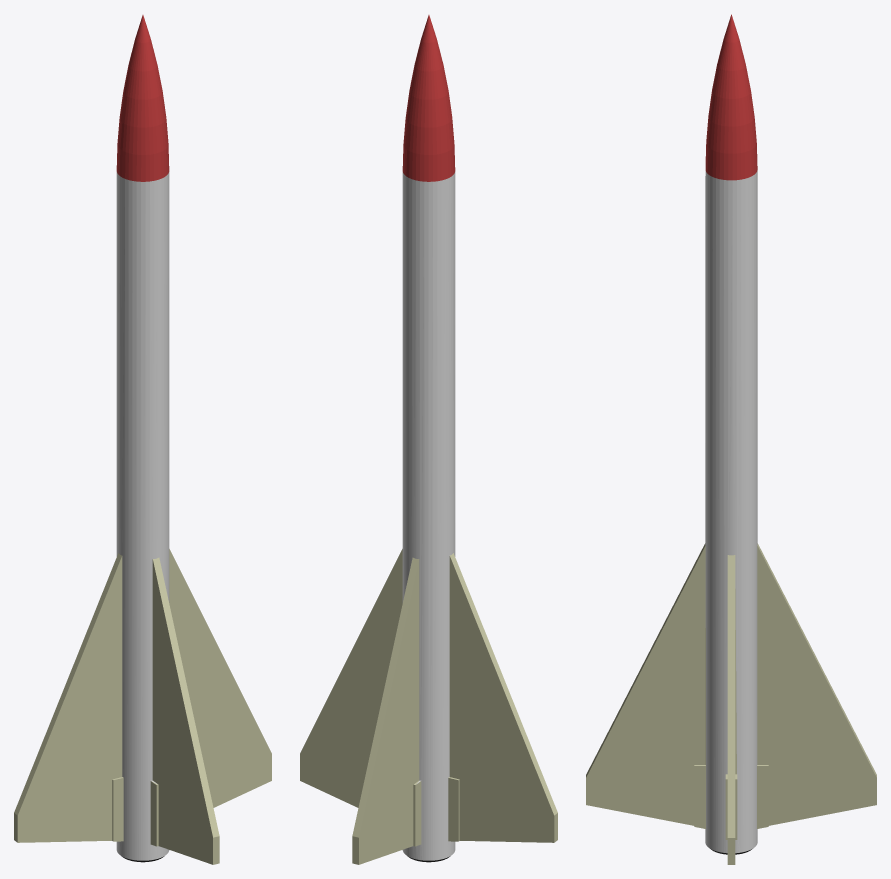
Rendered from Sagitta.glb.
The picture shows the model from 3 angles, left to right: view 1: azimuth 30°, elevation 25°; view 2: azimuth 150°, elevation 25°; view 3: azimuth 270°, elevation 25°; orthographic projection.
Parts seen in each view (by area): view 1: Sagitta; view 2: Sagitta; view 3: Sagitta.
Part boxes in pixels (x1,y1,x2,y2): Sagitta: (14,15,271,864); Sagitta: (300,15,557,864); Sagitta: (586,14,876,864).
Bounding box in the file's own units: 97.58 × 308 × 97.58.
